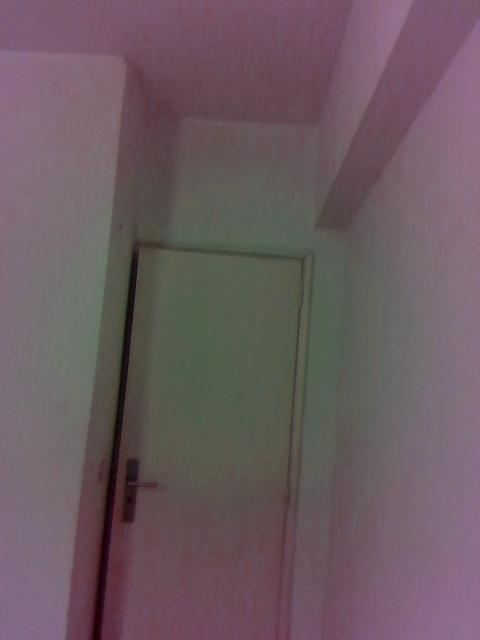closed_door: (87, 244, 311, 638)
